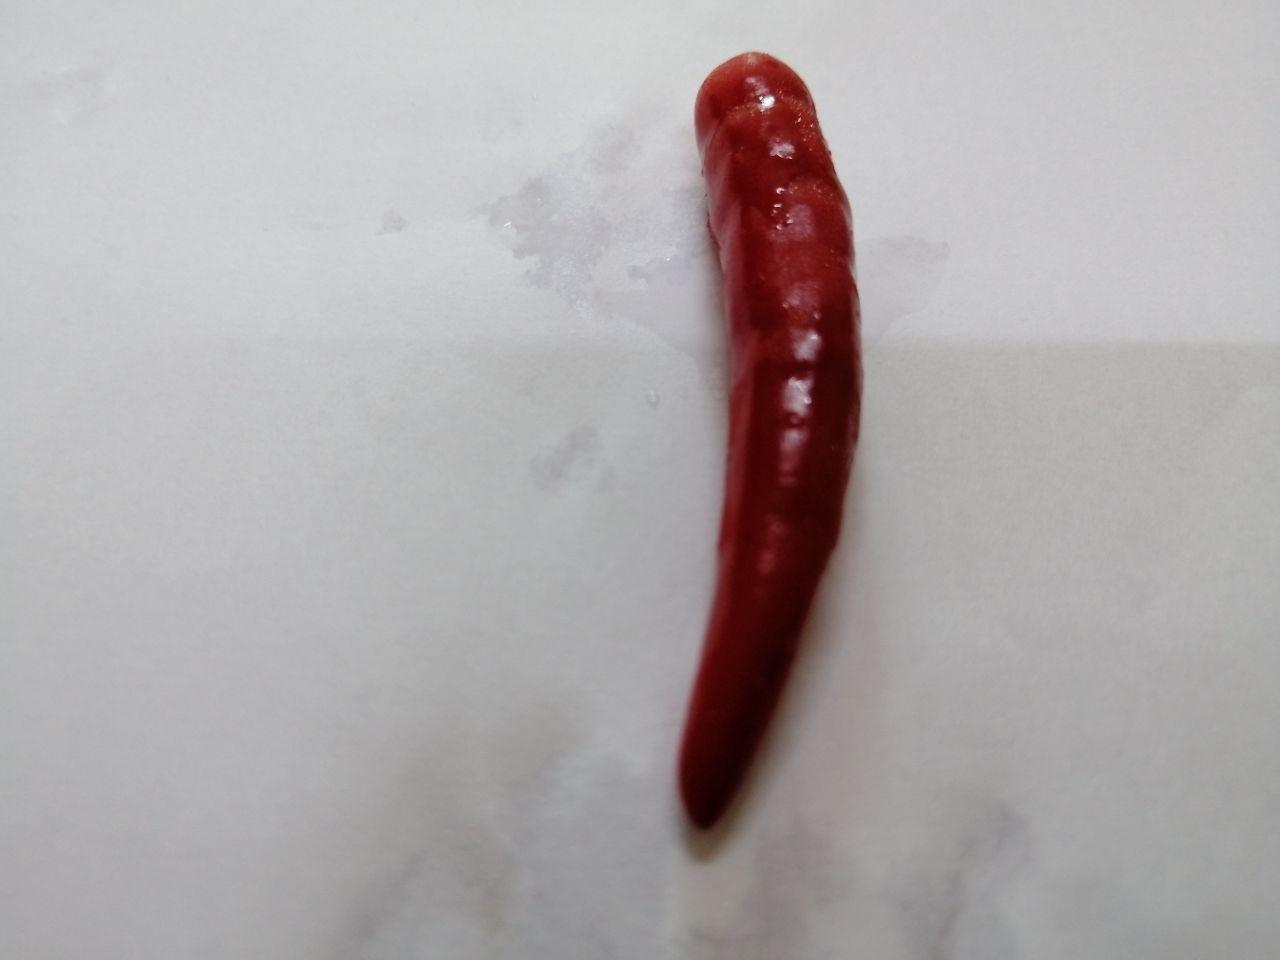lada merah: (646, 34, 877, 847)
